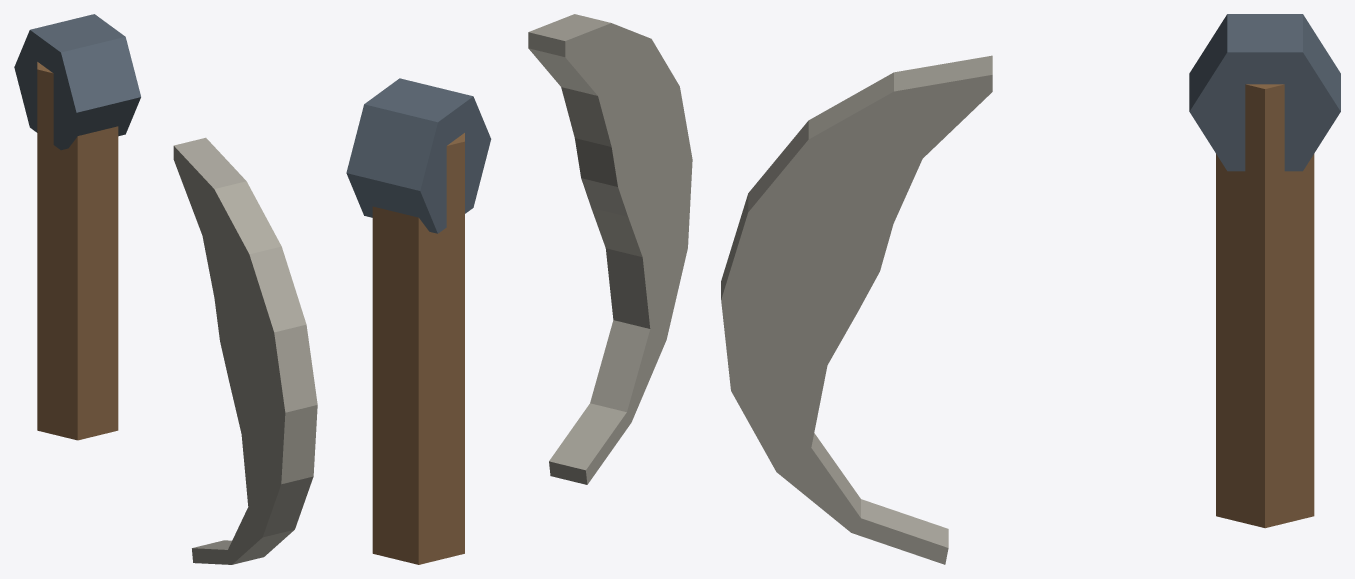
The model's file is villager-sickle.glb.
The picture shows the model from 3 angles, left to right: view 1: azimuth 30°, elevation 25°; view 2: azimuth 150°, elevation 25°; view 3: azimuth 270°, elevation 25°; orthographic projection. The views are drawn at different scales.
Visible parts, largest first — view 1: villager-sickle; view 2: villager-sickle; view 3: villager-sickle.
Part boxes in pixels (x1,y1,x2,y2): villager-sickle: [14, 14, 317, 564]; villager-sickle: [346, 14, 692, 564]; villager-sickle: [721, 14, 1340, 564].
Size of the model in its own units: 0.15 by 0.7611 by 0.8186.
1 material, 1 textured.
